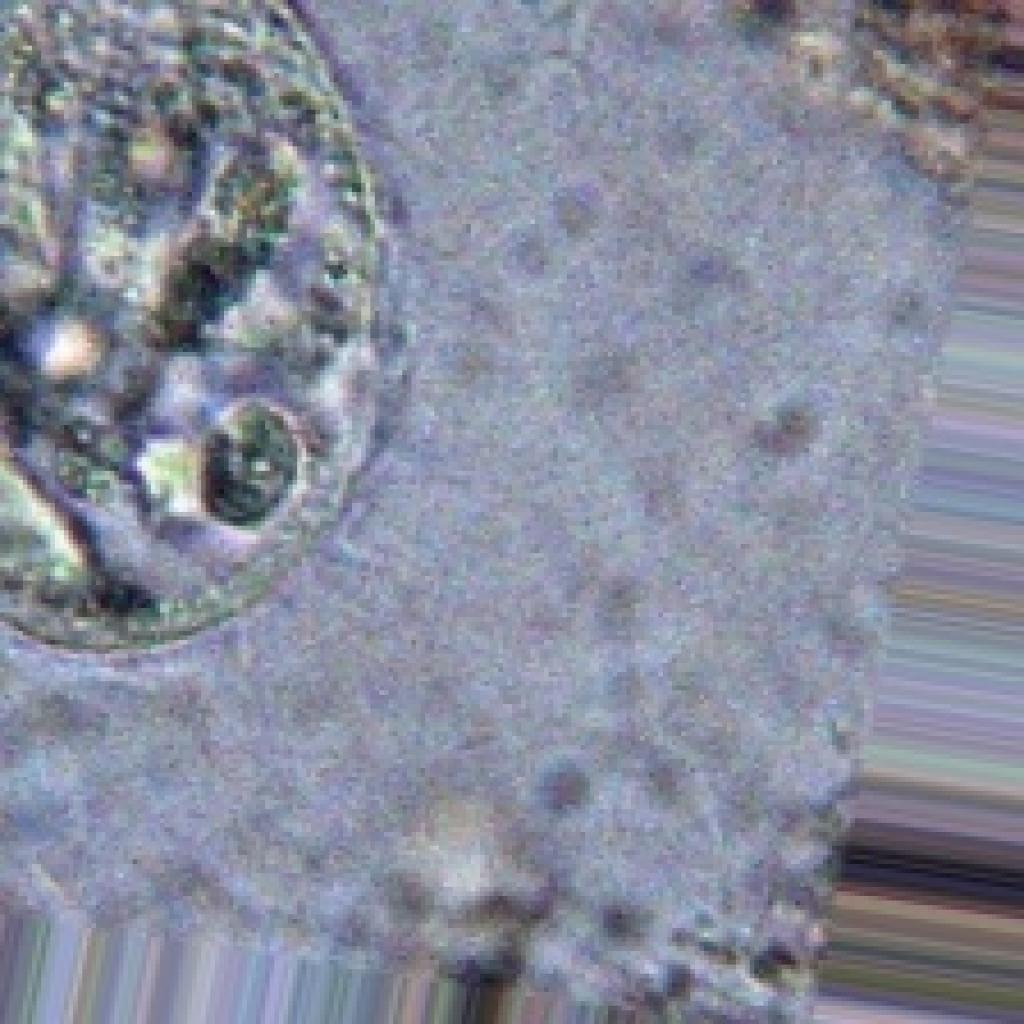Sphericalbacteria: (0, 0, 983, 1019), (0, 0, 416, 654)
